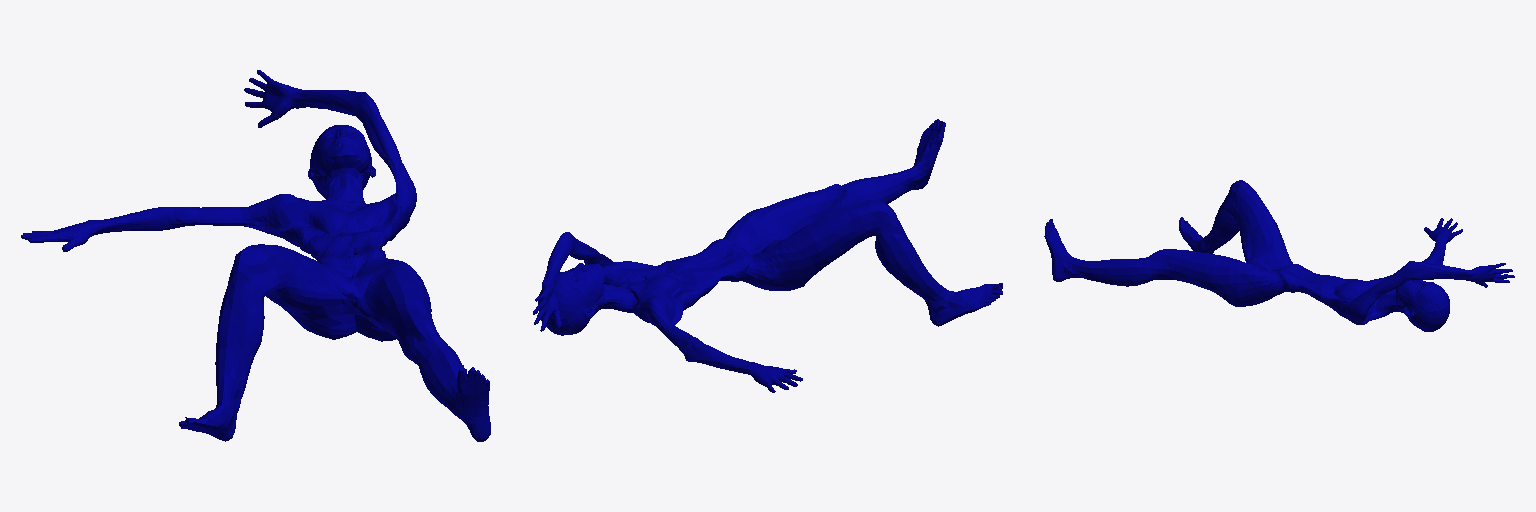
robot.urdf — human:
<?xml version="1.0" ?>
<robot name="human">

  <material name="off_yellow">
    <color rgba="1 0.95 0.051 1"/>
  </material>

  <material name="blue">
    <color rgba="0.05 0.05 0.6 1"/>
  </material>

  <link name="human">
    <inertial>
      <mass value="0"/>
      <origin rpy="0 0 0" xyz="0 0 0"/>
      <inertia ixx="0.01" ixy="0.0" ixz="0.0" iyy="0.01" iyz="0.0" izz="0.01"/>
    </inertial>
    <visual>
      <origin rpy="0 0 0" xyz="0 0 0"/>
      <geometry>
        <mesh filename="human.obj" scale="1.0 1.0 1.0"/>
      </geometry>
      <material name="blue"/>
    </visual>
    <collision>
      <origin rpy="0 0 0" xyz="0 0 0"/>
      <geometry>
        <!--mesh filename="bed_mattress_vhacd.obj" scale="1.1 1.1 1.1"/-->
        <mesh filename="human.obj" scale="1.0 1.0 1.0"/>
      </geometry>
    </collision>
  </link>
</robot>

--- What the picture shows (computed from the rendered views, not written in the file) ---
3 views of the same robot in one strip: view 1: azimuth 30°, elevation 25°; view 2: azimuth 150°, elevation 25°; view 3: azimuth 270°, elevation 25° (orthographic).
Model human with 1 links and 0 joints (none), rooted at human, posed every joint at zero.
Links seen in each view (by area): view 1: human; view 2: human; view 3: human.
Link boxes in pixels (x1,y1,x2,y2): human: (21,70,490,441); human: (533,119,1002,392); human: (1044,180,1514,331).
Size in the robot's own frame: 0.9341 by 1.56 by 0.3763 metres.
Meshes: 1 distinct files referenced, 1 mesh visuals loaded (1 OBJ).